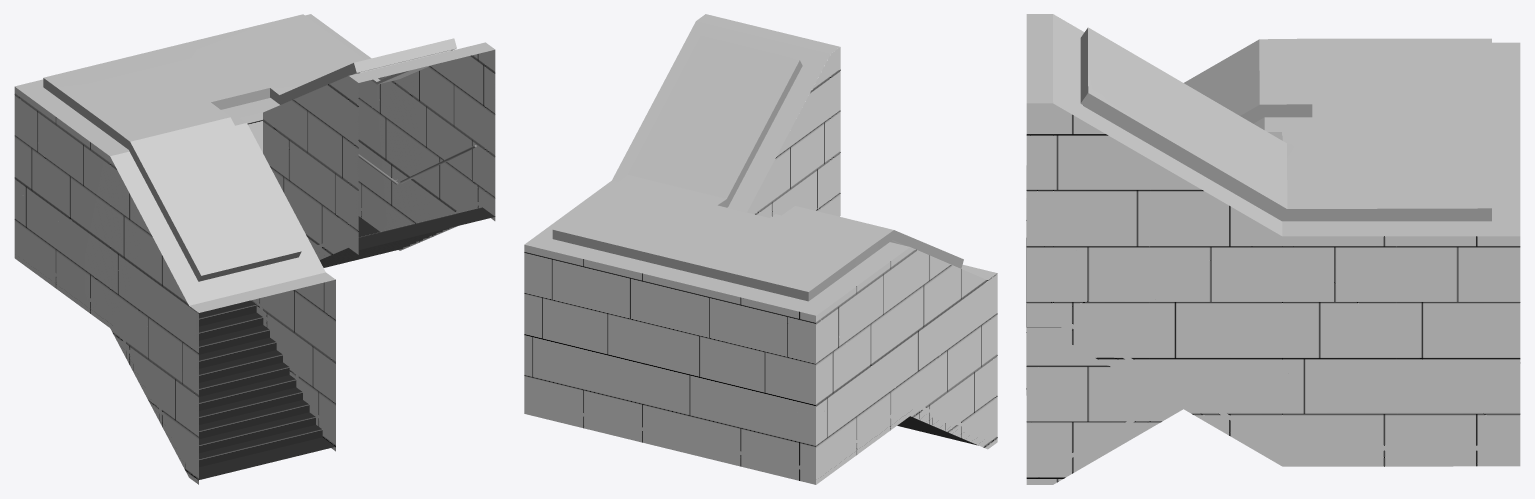
The model's file is Stairs02_300x700cm.FBX.
The picture shows the model from 3 angles, left to right: view 1: azimuth 30°, elevation 25°; view 2: azimuth 150°, elevation 25°; view 3: azimuth 270°, elevation 25°; orthographic projection. The views are drawn at different scales.
Visible parts, largest first — view 1: Walls, Ceiling, Stairs; view 2: Walls, Ceiling, Stairs; view 3: Walls, Ceiling.
Part boxes in pixels (x1,y1,x2,y2): Walls: (14,50,495,484); Ceiling: (15,14,494,312); Stairs: (107,207,495,479); Walls: (524,47,997,484); Ceiling: (525,14,997,315); Stairs: (897,412,978,445); Walls: (1026,103,1520,484); Ceiling: (1026,14,1520,236).
Bounding box in the file's own units: 650 × 760 × 700.
